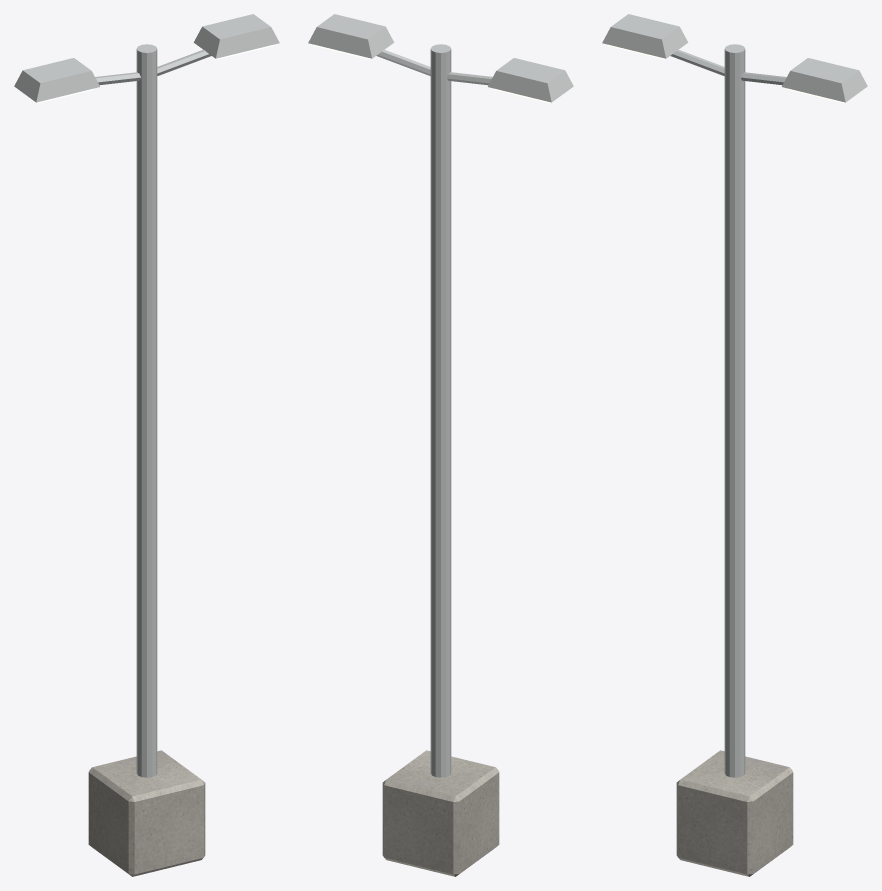
Rendered from roof_light.glb.
3 renders of one model, left to right at view 1: azimuth 30°, elevation 25°; view 2: azimuth 150°, elevation 25°; view 3: azimuth 330°, elevation 25°, orthographic.
Visible parts, largest first — view 1: roof_light_galv, roof_light_concrete; view 2: roof_light_galv, roof_light_concrete; view 3: roof_light_galv, roof_light_concrete.
Boxes of the visible parts, x1,y1,x2,y2 form: roof_light_galv: [14, 14, 279, 777]; roof_light_concrete: [88, 750, 205, 876]; roof_light_galv: [308, 14, 573, 777]; roof_light_concrete: [382, 750, 499, 876]; roof_light_galv: [602, 14, 867, 777]; roof_light_concrete: [676, 750, 793, 876].
Size of the model in its own units: 1.9 by 6 by 0.6.
3 materials, 1 textured.
